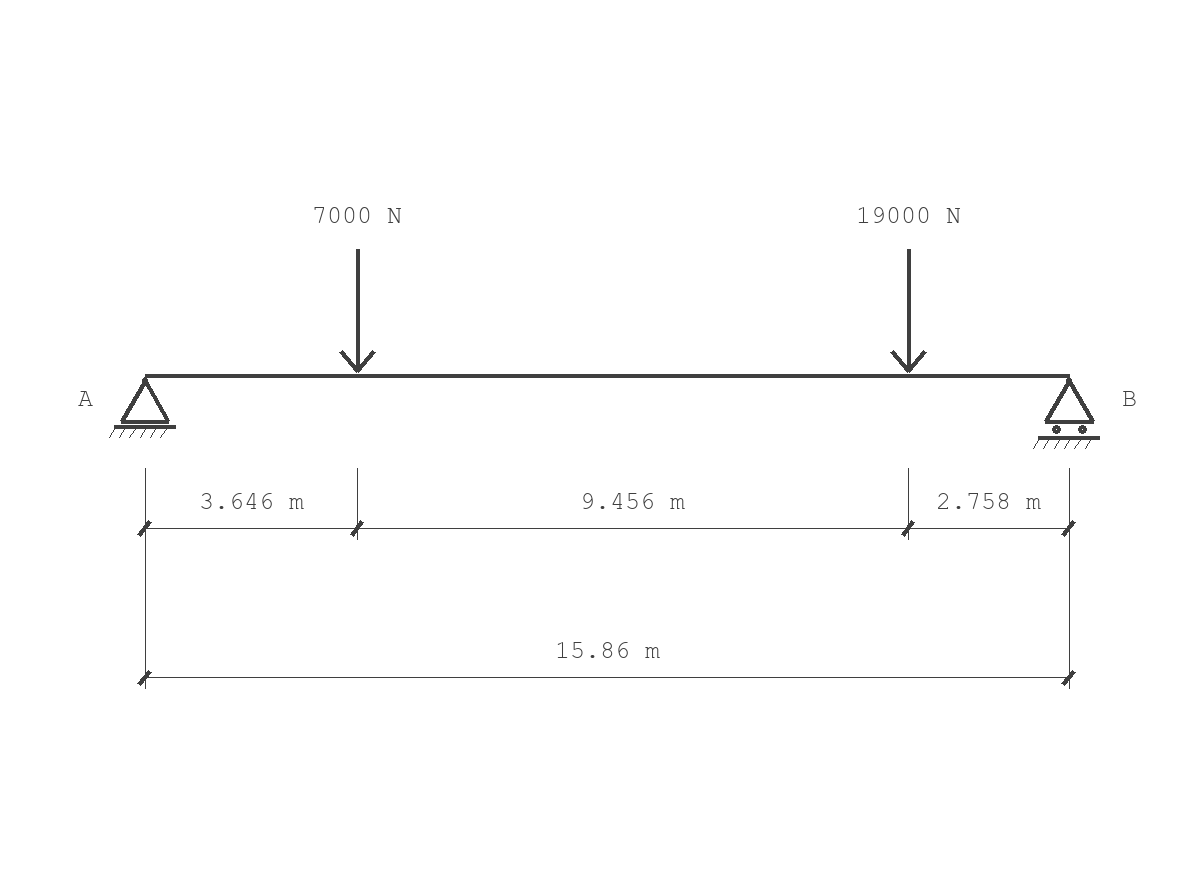pin_support: (109, 377, 176, 438)
point_load: (339, 249, 376, 373), (890, 249, 927, 373)
roller_support: (1033, 377, 1100, 449)
